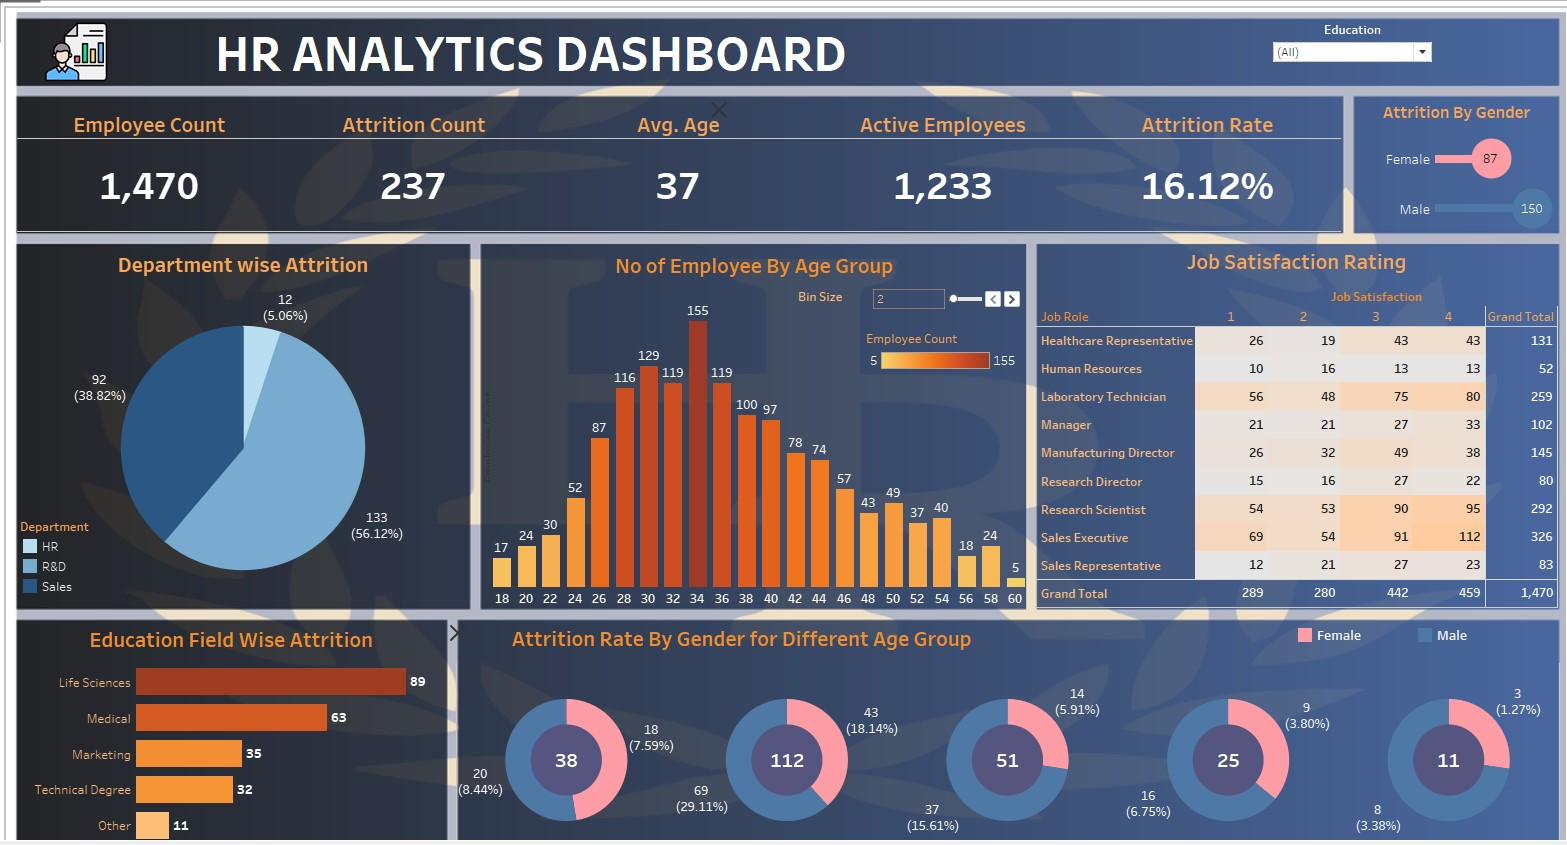

The page's visual inventory and layout, read from the dashboard file:
{"tool":"tableau","page":{"name":"HR ANALYTICS DASHBOARD","canvas":[1580,900],"ordinal":0},"visuals":[{"type":"image","param":"C:/Users/ACER/Downloads/HR background.pptx.png","box":[8,8,1564,884]},{"type":"text","box":[20,19,1026,65]},{"type":"filter","title":"Department wise Attrition","param":"[federated.1gp01ul1r9k1o811kblis1cyxxs2].[none:Education:nk]","box":[1272,21,165,63]},{"type":"worksheet","title":"Attrition By Gender","mark":"Circle","rows":["Gender"],"cols":["Calculation_5041216893357920256","Calculation_5041216893357920256"],"box":[1357,97,203,136]},{"type":"worksheet","title":"KPI","mark":"Automatic","box":[19,98,1324,134]},{"type":"dashboard-object","box":[709,98,24,24]},{"type":"worksheet","title":"Job Satisfaction Rating","mark":"Square","rows":["Job Role"],"cols":["Job Satisfaction"],"box":[1037,243,523,365]},{"type":"worksheet","title":"Department wise Attrition","mark":"Pie","box":[19,246,452,362]},{"type":"worksheet","title":"No of Employee By Age Group","mark":"Automatic","rows":["Employee Count"],"cols":["Age (bin)"],"box":[482,247,548,361]},{"type":"parameter","param":"[Parameters].[Parameter 1]","box":[800,286,225,28]},{"type":"legend","title":"No of Employee By Age Group","param":"[federated.1gp01ul1r9k1o811kblis1cyxxs2].[sum:Employee Count:qk]","box":[868,330,154,52]},{"type":"legend","title":"Department wise Attrition","param":"[federated.1gp01ul1r9k1o811kblis1cyxxs2].[none:Department:nk]","box":[22,518,140,85]},{"type":"worksheet","title":"Attrition Rate By Gender for Different Age Group","mark":"Pie","rows":["Calculation_8685754895286681604","Calculation_8685754895286681604"],"cols":["CF_age band"],"box":[458,620,1104,259]},{"type":"worksheet","title":"Education Field Wise Attrition","mark":"Automatic","rows":["Education Field"],"cols":["Calculation_5041216893357920256"],"box":[18,621,430,258]},{"type":"dashboard-object","box":[448,621,24,24]},{"type":"legend","title":"Attrition Rate By Gender for Different Age Group","param":"[federated.1gp01ul1r9k1o811kblis1cyxxs2].[none:Gender:nk]","box":[1297,625,259,46]}]}

Visuals, with their boxes in screenshot pixels (x1, y1, x2, y2):
image: l=8, t=8, r=1509, b=844
text: l=19, t=18, r=1004, b=81
"Department wise Attrition" filter: l=1221, t=20, r=1379, b=81
"Attrition By Gender" worksheet (Circle marks): l=1302, t=93, r=1497, b=224
"KPI" worksheet: l=18, t=94, r=1289, b=223
dashboard-object: l=680, t=94, r=703, b=117
"Job Satisfaction Rating" worksheet (Square marks): l=995, t=233, r=1497, b=583
"Department wise Attrition" worksheet (Pie marks): l=18, t=236, r=452, b=583
"No of Employee By Age Group" worksheet: l=463, t=237, r=988, b=583
parameter: l=768, t=274, r=984, b=301
"No of Employee By Age Group" legend: l=833, t=317, r=981, b=367
"Department wise Attrition" legend: l=21, t=497, r=155, b=579
"Attrition Rate By Gender for Different Age Group" worksheet (Pie marks): l=440, t=595, r=1499, b=843
"Education Field Wise Attrition" worksheet: l=17, t=596, r=430, b=843
dashboard-object: l=430, t=596, r=453, b=619
"Attrition Rate By Gender for Different Age Group" legend: l=1245, t=600, r=1493, b=644
